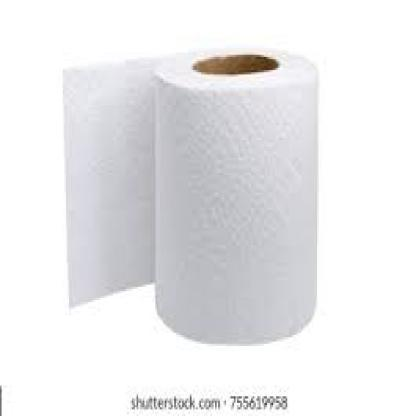tissue: (131, 42, 316, 347)
